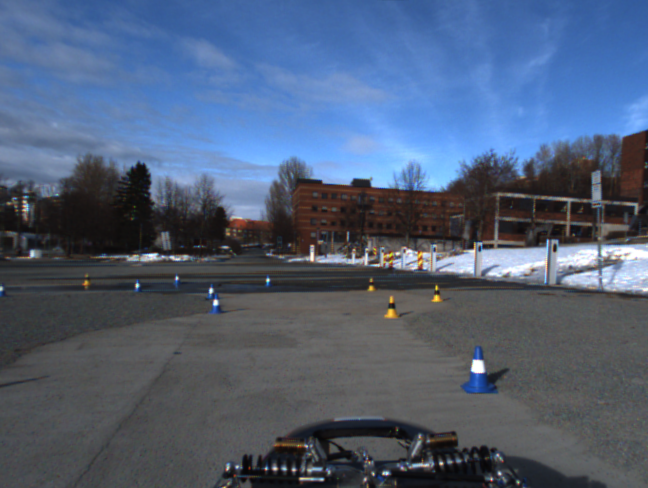cone-small-blue: (460, 346, 498, 393), (210, 295, 223, 313), (206, 284, 215, 300), (134, 279, 143, 292), (173, 273, 181, 284), (1, 283, 7, 297), (264, 275, 271, 287)
cone-small-yellow: (384, 294, 400, 318), (430, 285, 443, 302), (366, 278, 378, 292), (82, 274, 92, 286)
